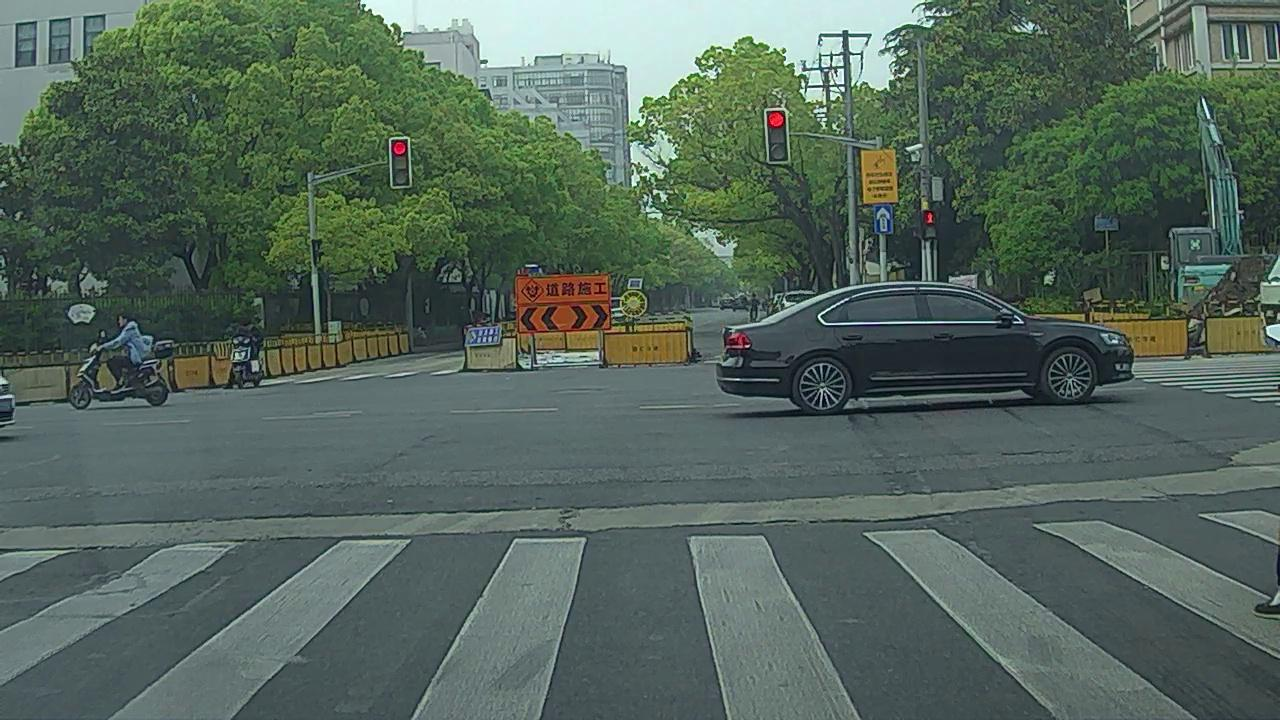traffic_light: (766, 111, 788, 159), (390, 139, 410, 186)
